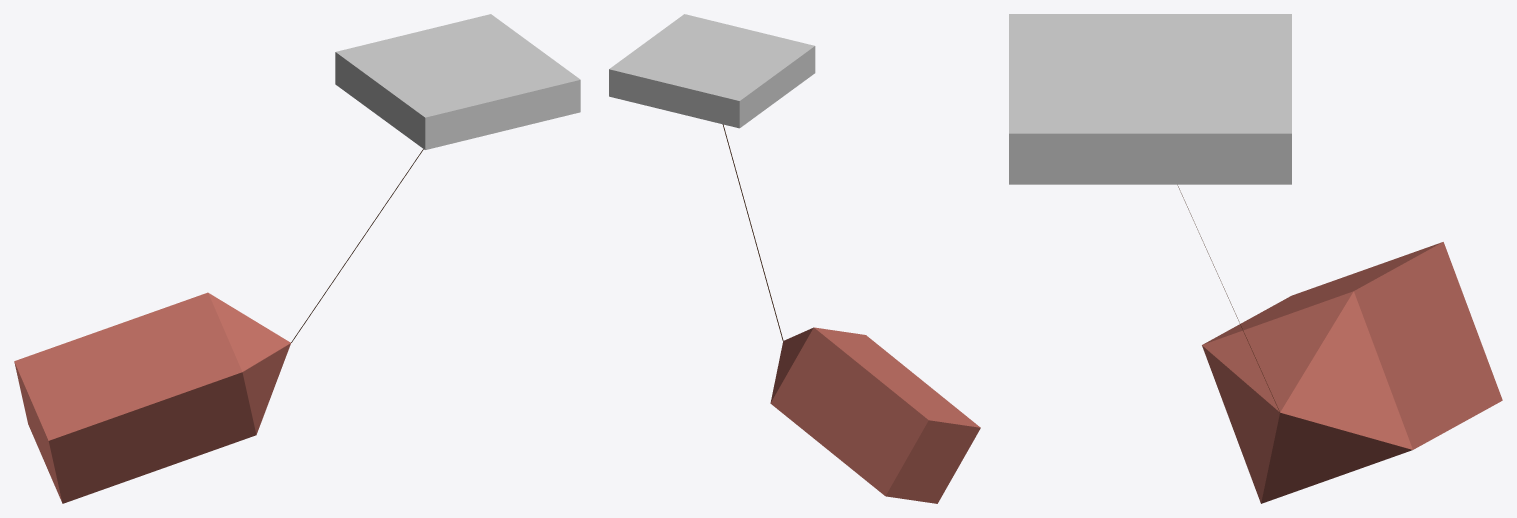
File: softbody8_1kotel.dae
The picture shows the model from 3 angles, left to right: view 1: azimuth 30°, elevation 25°; view 2: azimuth 150°, elevation 25°; view 3: azimuth 270°, elevation 25°; orthographic projection. The views are drawn at different scales.
Parts seen in each view (by area): view 1: rb_rigid, rb_statik; view 2: rb_rigid, rb_statik; view 3: rb_statik, rb_rigid.
Part boxes in pixels (box(x1,y1,x2,y2)): rb_rigid: box(14, 292, 290, 503); rb_statik: box(335, 14, 580, 149); rb_rigid: box(770, 327, 980, 503); rb_statik: box(609, 14, 815, 128); rb_statik: box(1009, 14, 1291, 184); rb_rigid: box(1202, 242, 1502, 503).
Bounding box in the file's own units: 2.85 × 1.75 × 2.48.
